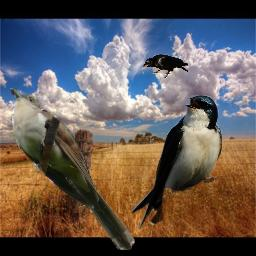Crow: (142, 54, 188, 78)
Cuckoo: (10, 88, 135, 250)
Swallow: (131, 95, 222, 231)
